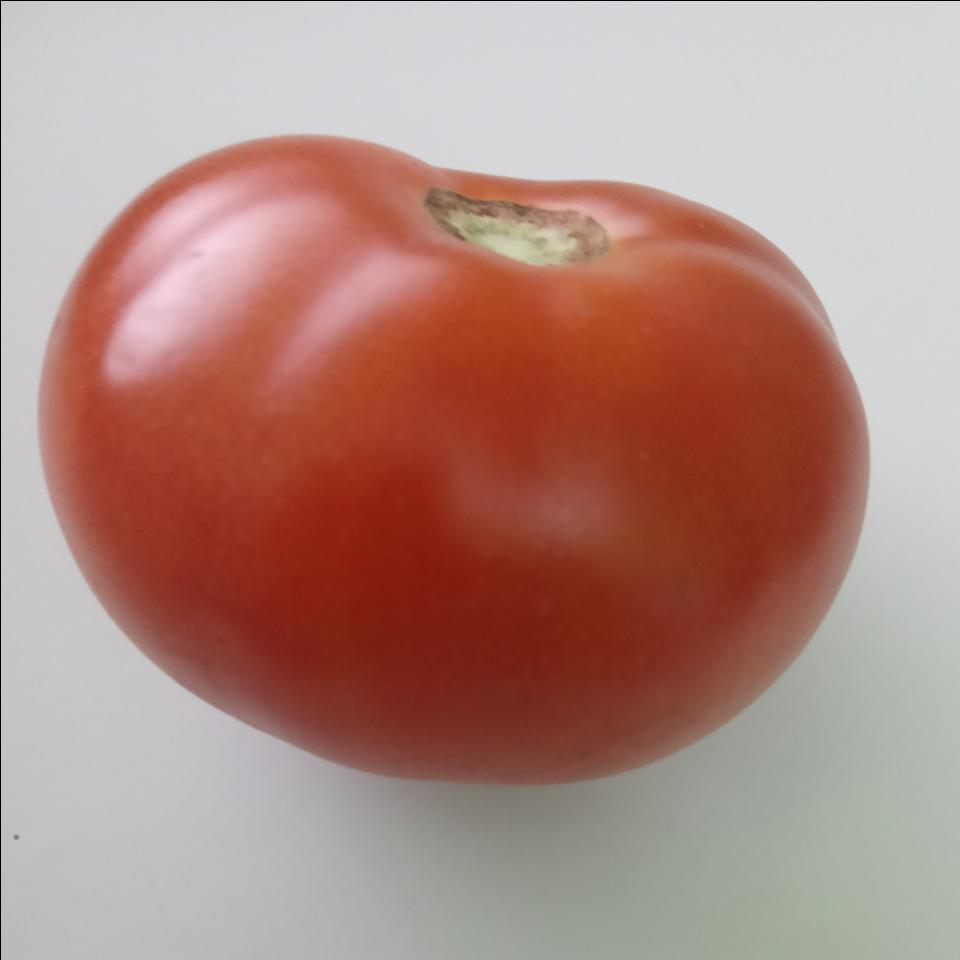Healthy: (32, 117, 883, 790)
